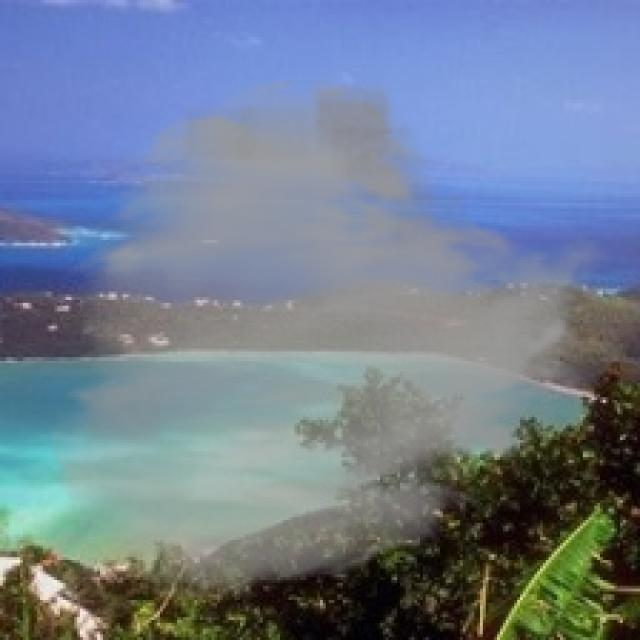smoke: (46, 74, 608, 606)
